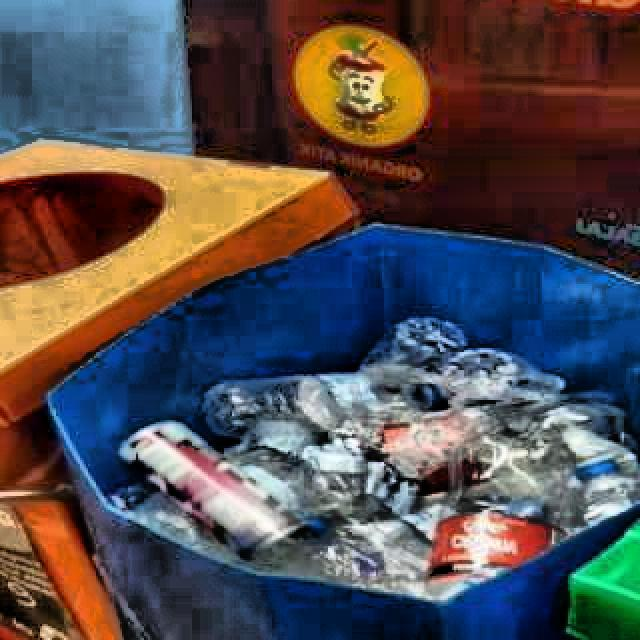metal: (117, 423, 307, 556)
